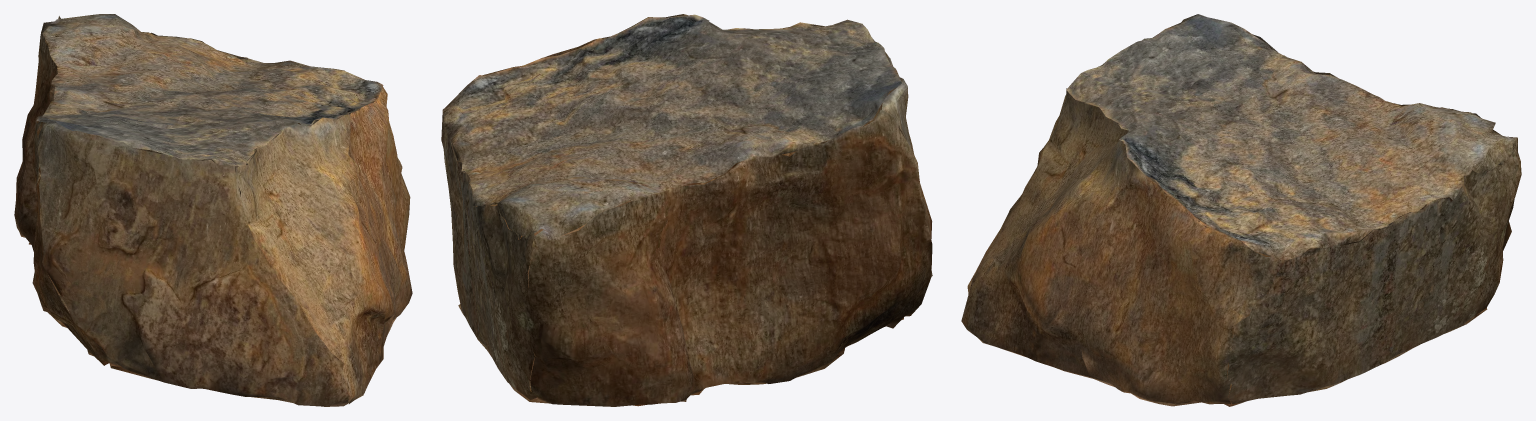
Rendered from namaqualand_boulder_03.glb.
The picture shows the model from 3 angles, left to right: view 1: azimuth 30°, elevation 25°; view 2: azimuth 150°, elevation 25°; view 3: azimuth 270°, elevation 25°; orthographic projection. The views are drawn at different scales.
Visible parts, largest first — view 1: Scanned weathered granite; view 2: Scanned weathered granite; view 3: Scanned weathered granite.
Part boxes in pixels (box(x1,y1,x2,y2)): Scanned weathered granite: box(14, 14, 412, 406); Scanned weathered granite: box(441, 14, 932, 406); Scanned weathered granite: box(961, 14, 1521, 406).
Bounding box in the file's own units: 0.7833 × 0.4814 × 1.01.
Materials: 1 (1 with a texture image).
